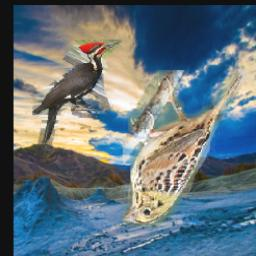Sparrow: (122, 70, 250, 227)
Woodpecker: (32, 40, 122, 151)
